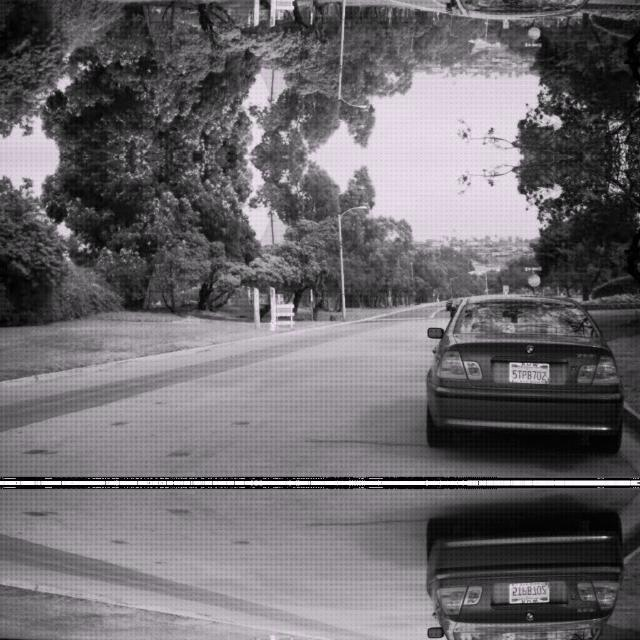stop: (526, 272, 540, 286), (526, 26, 540, 40)
